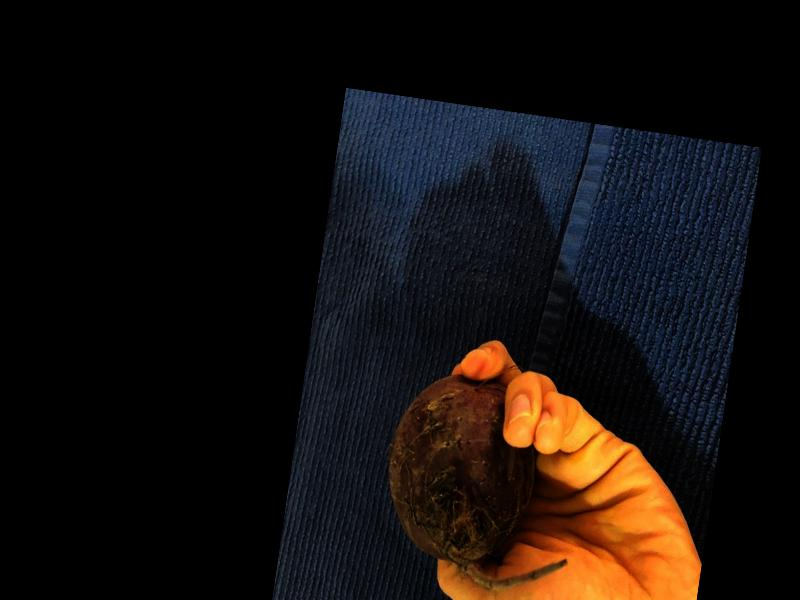Beet: (374, 367, 593, 598)
